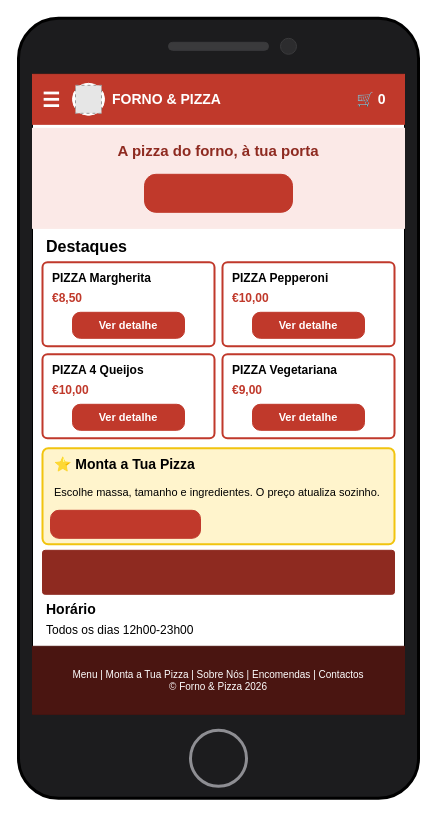
Some shapes in this 437 by 817 pixel diagram are drawn without their labels. Grey dashed boxes stand in for pictures. Here are the shapes that lost their labels. From the top down, the box of each, then its label:
(144, 173, 292, 212): ENCOMENDAR
(50, 509, 200, 538): Criar a minha pizza
(42, 549, 394, 594): 2 pizzas médias + 2 bebidas — €18,00
